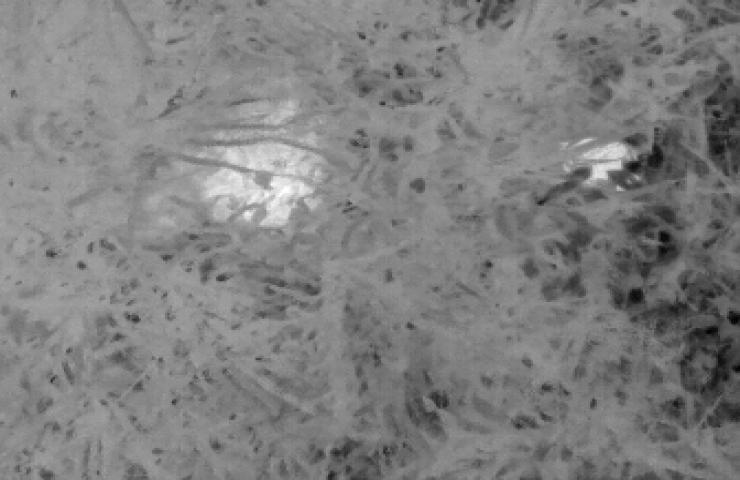landmines: (190, 102, 332, 238)
